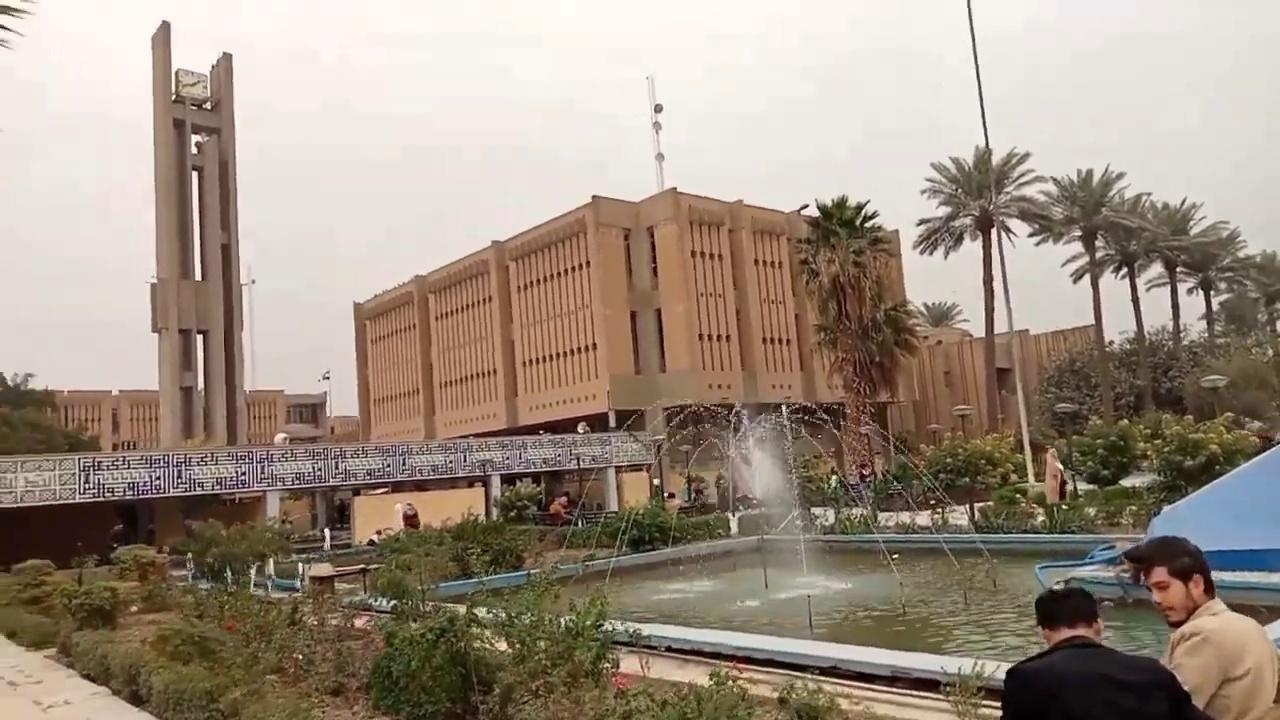car: (1034, 540, 1152, 606)
fountain: (375, 398, 1277, 700)
person: (1121, 534, 1279, 719), (999, 585, 1213, 719), (549, 493, 573, 525), (401, 502, 420, 529), (334, 498, 346, 527), (366, 528, 384, 546)
tree: (1026, 161, 1273, 427), (790, 192, 922, 503), (912, 142, 1048, 436), (1027, 162, 1148, 426), (1105, 193, 1237, 415), (1097, 192, 1166, 416), (1136, 194, 1209, 359), (1177, 219, 1247, 354), (174, 514, 294, 588), (1243, 247, 1279, 358), (491, 477, 543, 525), (0, 0, 35, 51), (918, 299, 969, 328)
